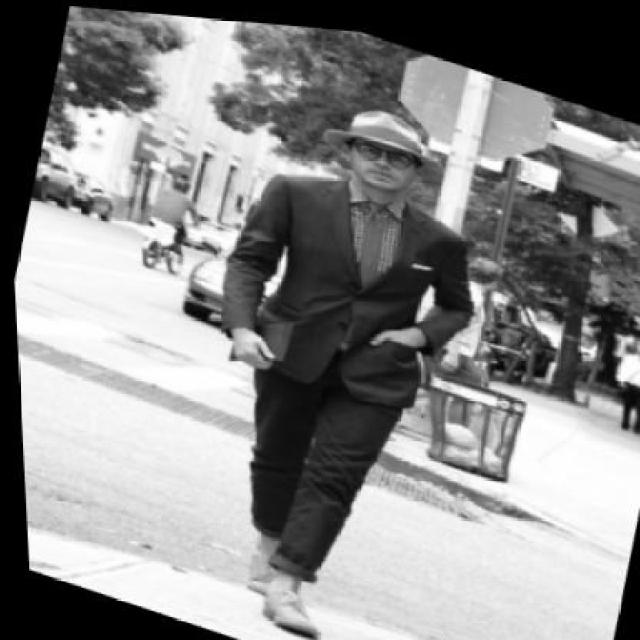hat: (316, 78, 461, 188)
